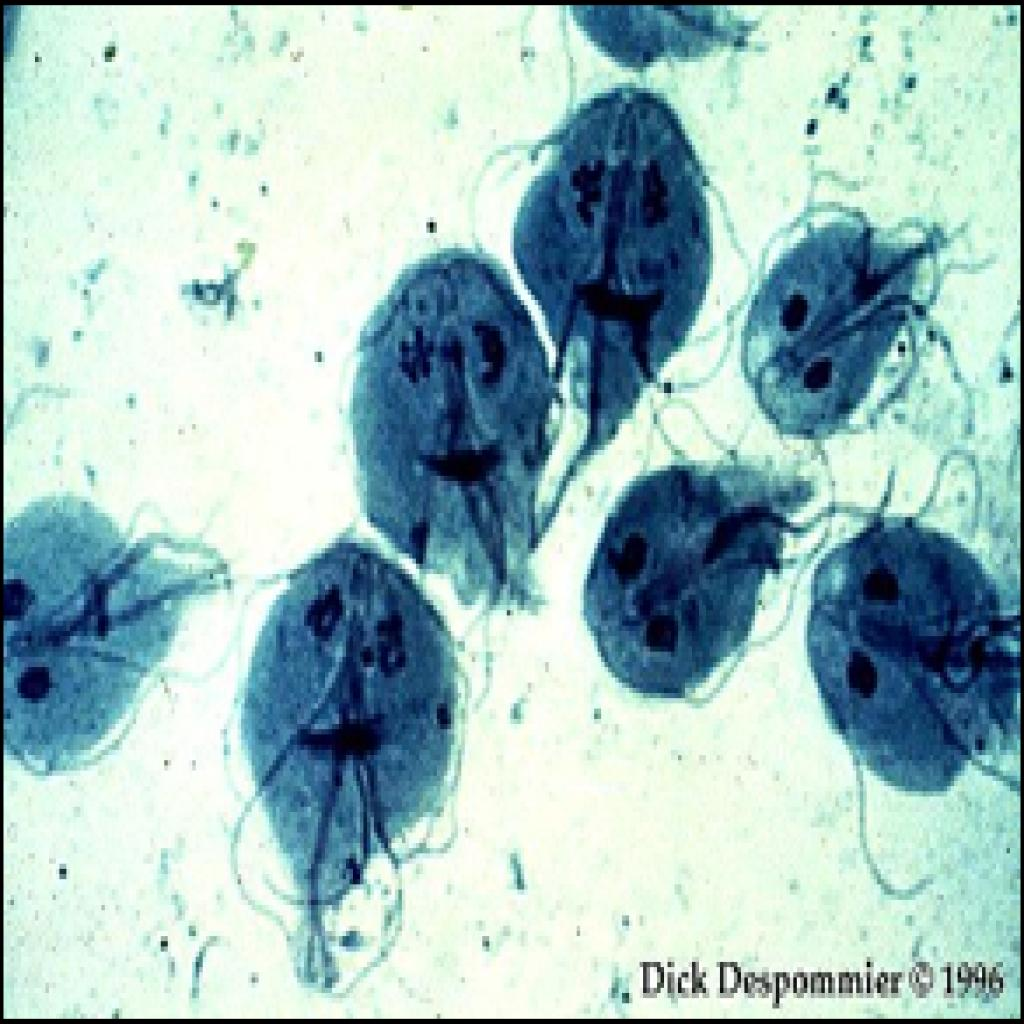Giardia: (234, 533, 468, 993), (496, 78, 720, 455), (346, 238, 552, 621), (804, 507, 1024, 817), (0, 486, 217, 781), (573, 445, 814, 698), (744, 196, 950, 444), (556, 0, 772, 78)
